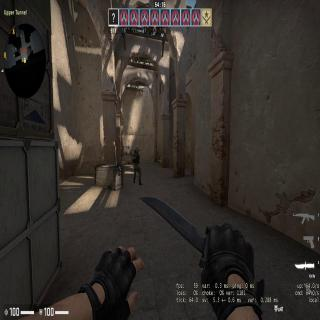CT-Body: (131, 144, 143, 186)
CT-Head: (135, 145, 140, 152)
